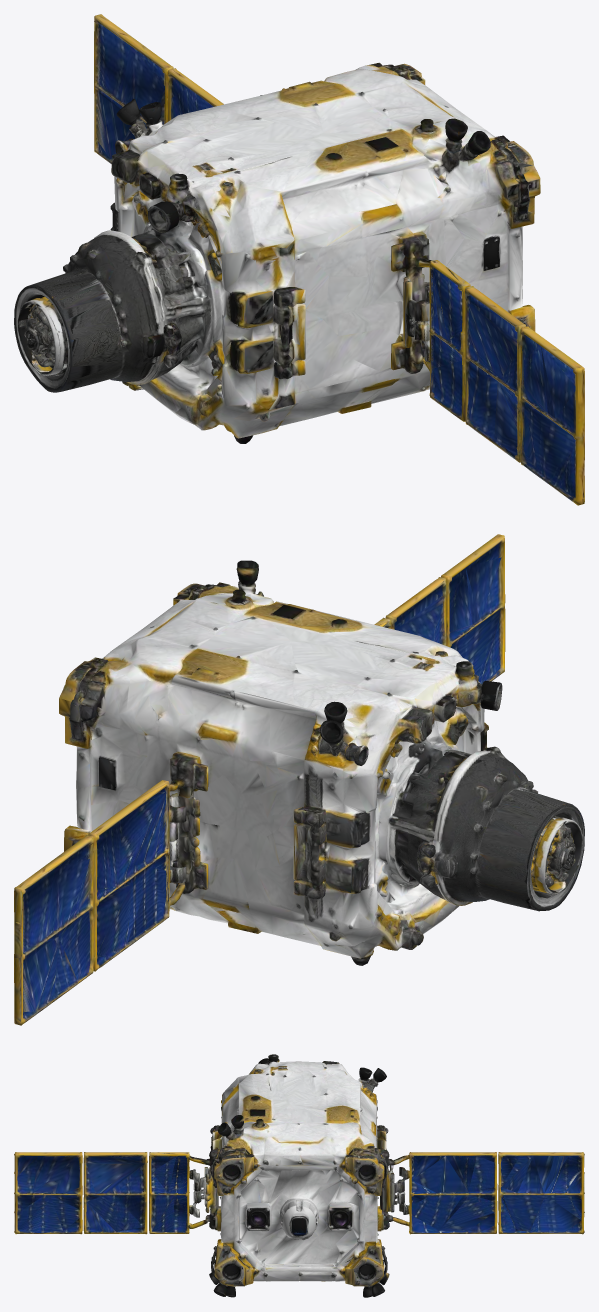
Rendered from spacecraft-bus.glb.
3 renders of one model, top to bottom at view 1: azimuth 30°, elevation 25°; view 2: azimuth 150°, elevation 25°; view 3: azimuth 270°, elevation 25°, orthographic. The views are drawn at different scales.
Parts seen in each view (by area): view 1: Mesh_0; view 2: Mesh_0; view 3: Mesh_0.
Part boxes in pixels (bbox=[...]): Mesh_0: bbox=[14, 14, 584, 505]; Mesh_0: bbox=[14, 534, 584, 1025]; Mesh_0: bbox=[14, 1054, 584, 1297].
Size of the model in its own units: 1.08 by 0.6698 by 2.
1 material, 1 textured.
